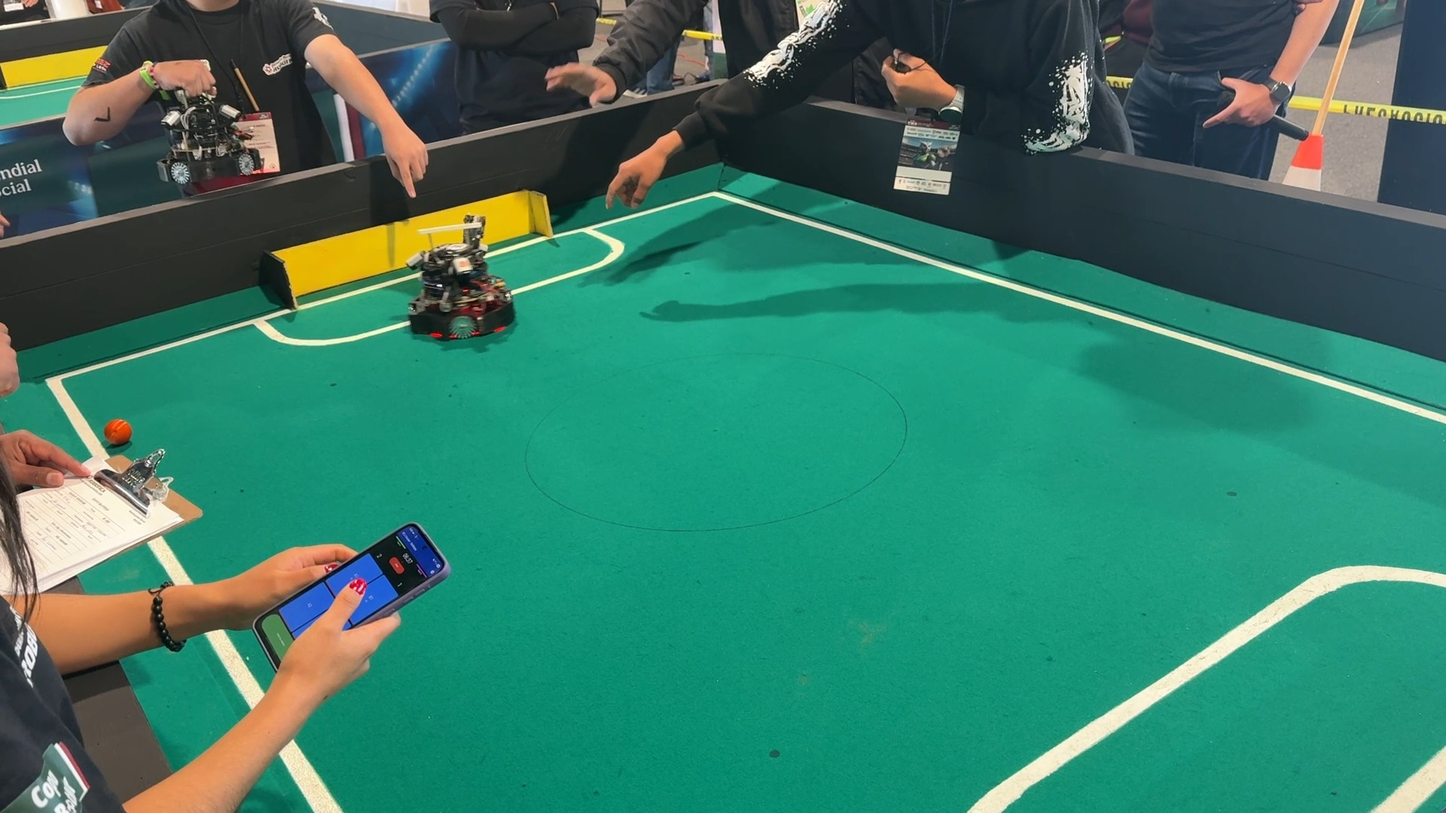Robot: (388, 207, 525, 359), (149, 78, 263, 190)
pelota: (98, 415, 138, 452)
